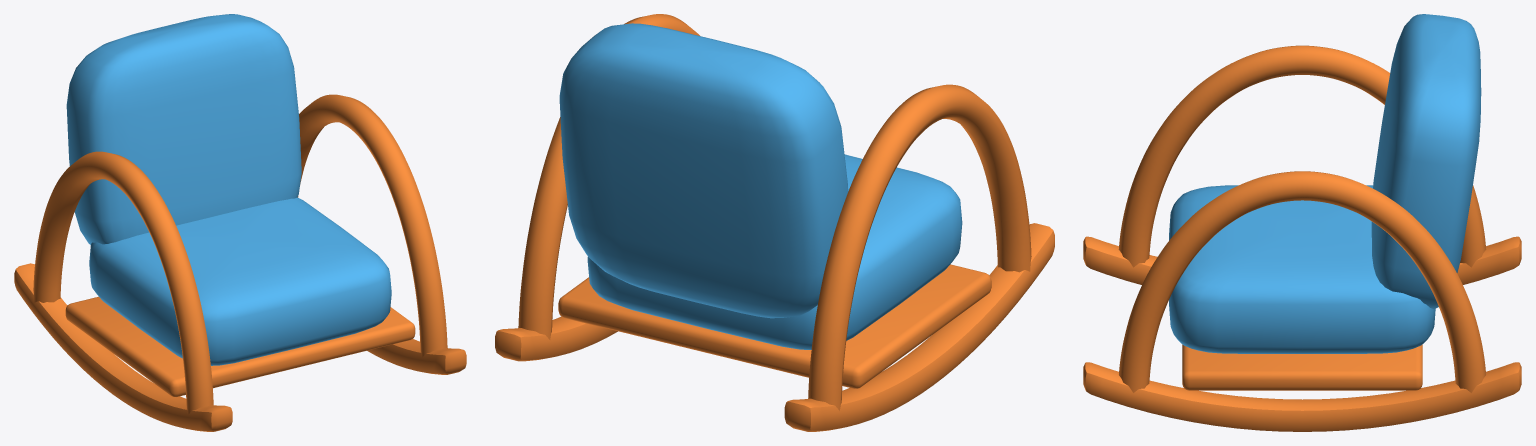
Rendered from poltrona_infantil_balanco_azul.glb.
3 views of the same model, side by side, from view 1: azimuth 30°, elevation 25°; view 2: azimuth 150°, elevation 25°; view 3: azimuth 270°, elevation 25° (orthographic). The views are drawn at different scales.
Parts seen in each view (by area): view 1: poltrona_infantil_balanco_azul; view 2: poltrona_infantil_balanco_azul; view 3: poltrona_infantil_balanco_azul.
Boxes of the visible parts, bbox=[...] form: poltrona_infantil_balanco_azul: bbox=[14, 14, 466, 431]; poltrona_infantil_balanco_azul: bbox=[495, 14, 1054, 431]; poltrona_infantil_balanco_azul: bbox=[1083, 14, 1521, 431].
Bounding box in the file's own units: 0.465 × 0.4985 × 0.62.
Materials: 1 (1 with a texture image).
